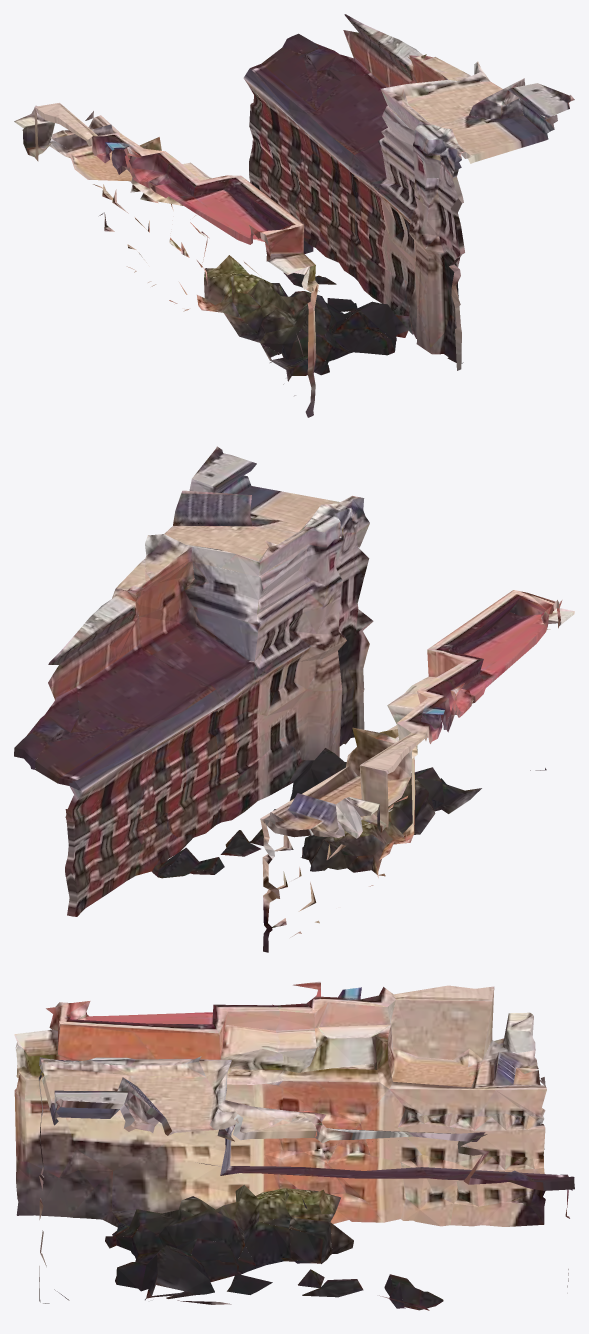
3 views of the same model, one above another, from view 1: azimuth 30°, elevation 25°; view 2: azimuth 150°, elevation 25°; view 3: azimuth 270°, elevation 25° (orthographic). The views are drawn at different scales.
Parts seen in each view (by area): view 1: Mesh_0; view 2: Mesh_0; view 3: Mesh_0.
Boxes of the visible parts, x1,y1,x2,y2 form: Mesh_0: (14,14,574,417); Mesh_0: (14,446,574,952); Mesh_0: (14,981,574,1310).
Bounding box in the file's own units: 33.62 × 22.02 × 41.2.
2 materials, 2 textured.
